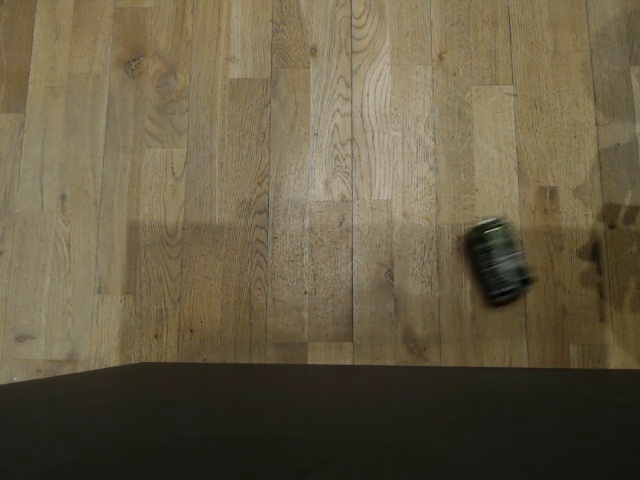beer: (458, 218, 540, 305)
